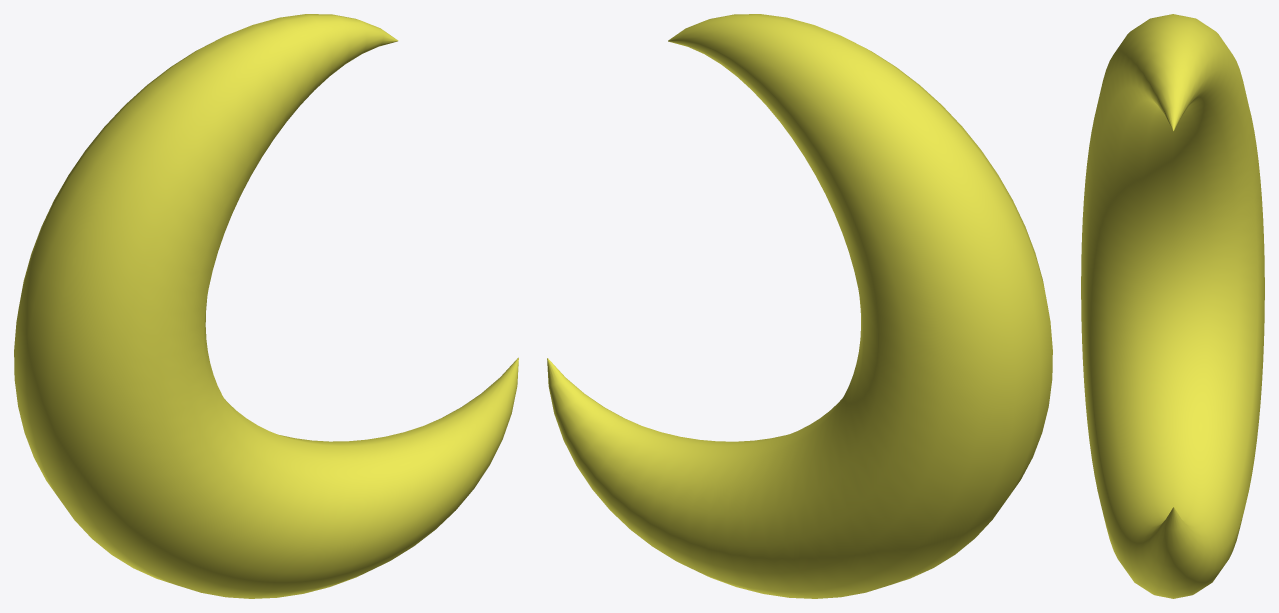
The model's file is kuu2.glb.
3 renders of one model, left to right at view 1: azimuth 30°, elevation 25°; view 2: azimuth 150°, elevation 25°; view 3: azimuth 270°, elevation 25°, orthographic. The views are drawn at different scales.
Parts seen in each view (by area): view 1: NurbsPath; view 2: NurbsPath; view 3: NurbsPath.
Part boxes in pixels (x1,y1,x2,y2): NurbsPath: [14, 14, 518, 598]; NurbsPath: [547, 14, 1052, 598]; NurbsPath: [1081, 14, 1264, 598].
Size of the model in its own units: 3.73 by 4.11 by 1.3.
